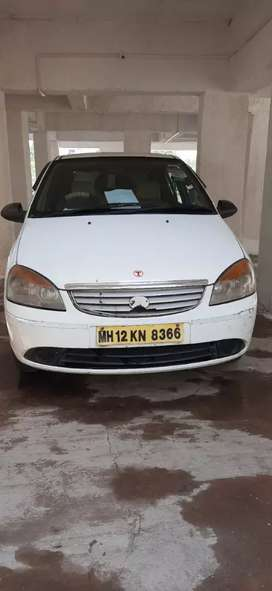MH12KN8366: (96, 323, 183, 347)
